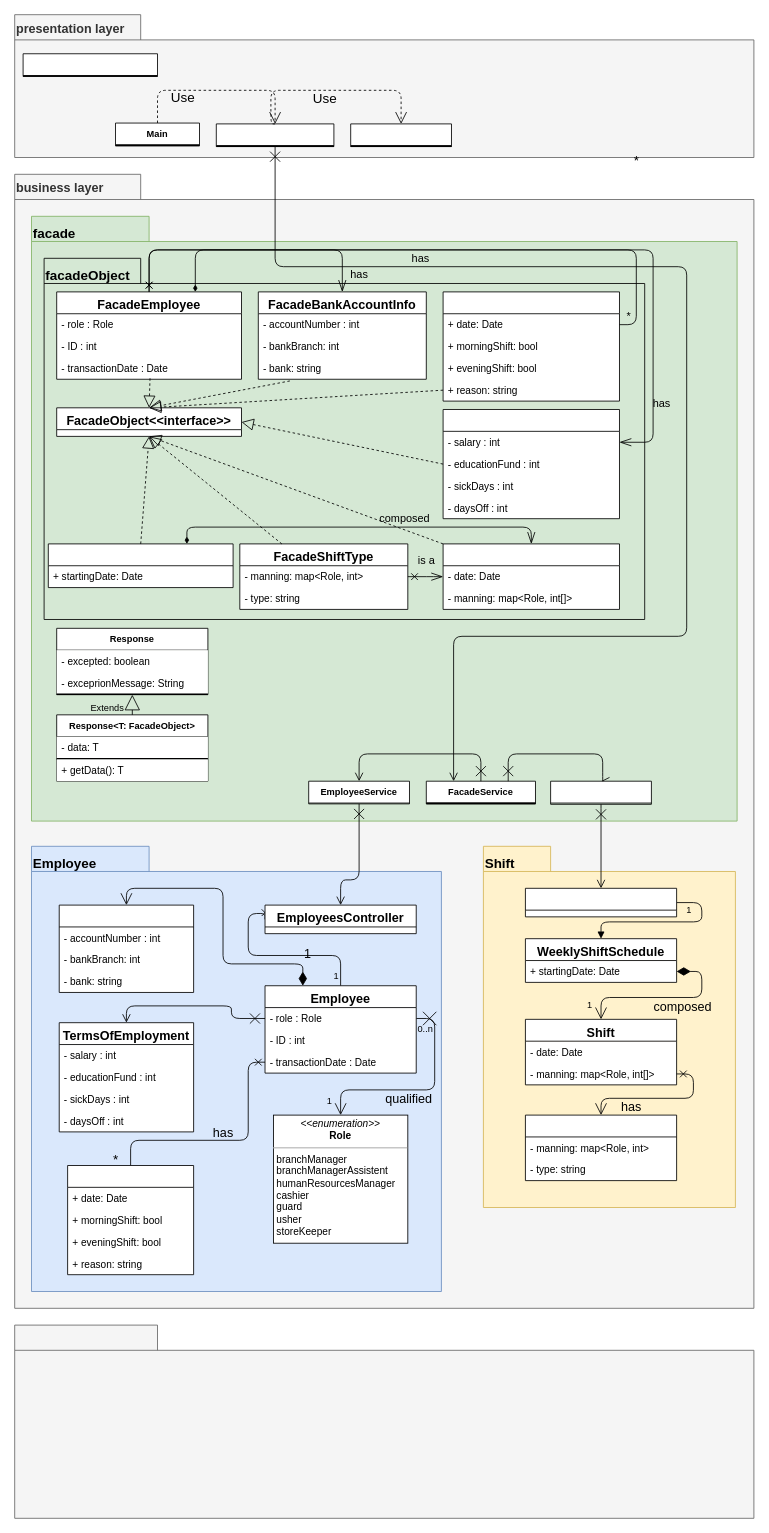
Some shapes in this 769 by 1533 pixel diagram are drawn without their labels. Here are the shapes that lost their labels. From the top down, the box of each, then its label:
(22, 53, 158, 76): StringConverter
(215, 123, 334, 147): PresentationController
(350, 123, 452, 147): MenuPrinter
(442, 291, 620, 401): FacadeConstraint
(442, 409, 620, 519): FacadeTermsOfEmployment
(47, 543, 233, 588): FacadeWeeklyShiftSchedule
(442, 543, 620, 609): FacadeShift
(550, 780, 651, 804): ShiftService
(525, 887, 677, 917): ShiftController
(58, 904, 194, 992): BankAccountInfo
(525, 1114, 677, 1181): ShiftType
(67, 1165, 194, 1275): Constraint
(14, 1324, 754, 1518): data access layer: tbd
